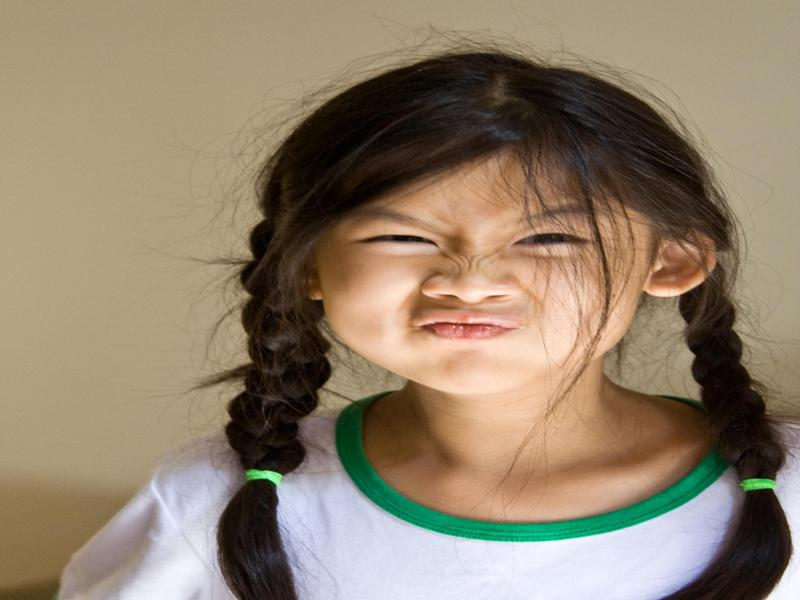person: (51, 51, 798, 600)
